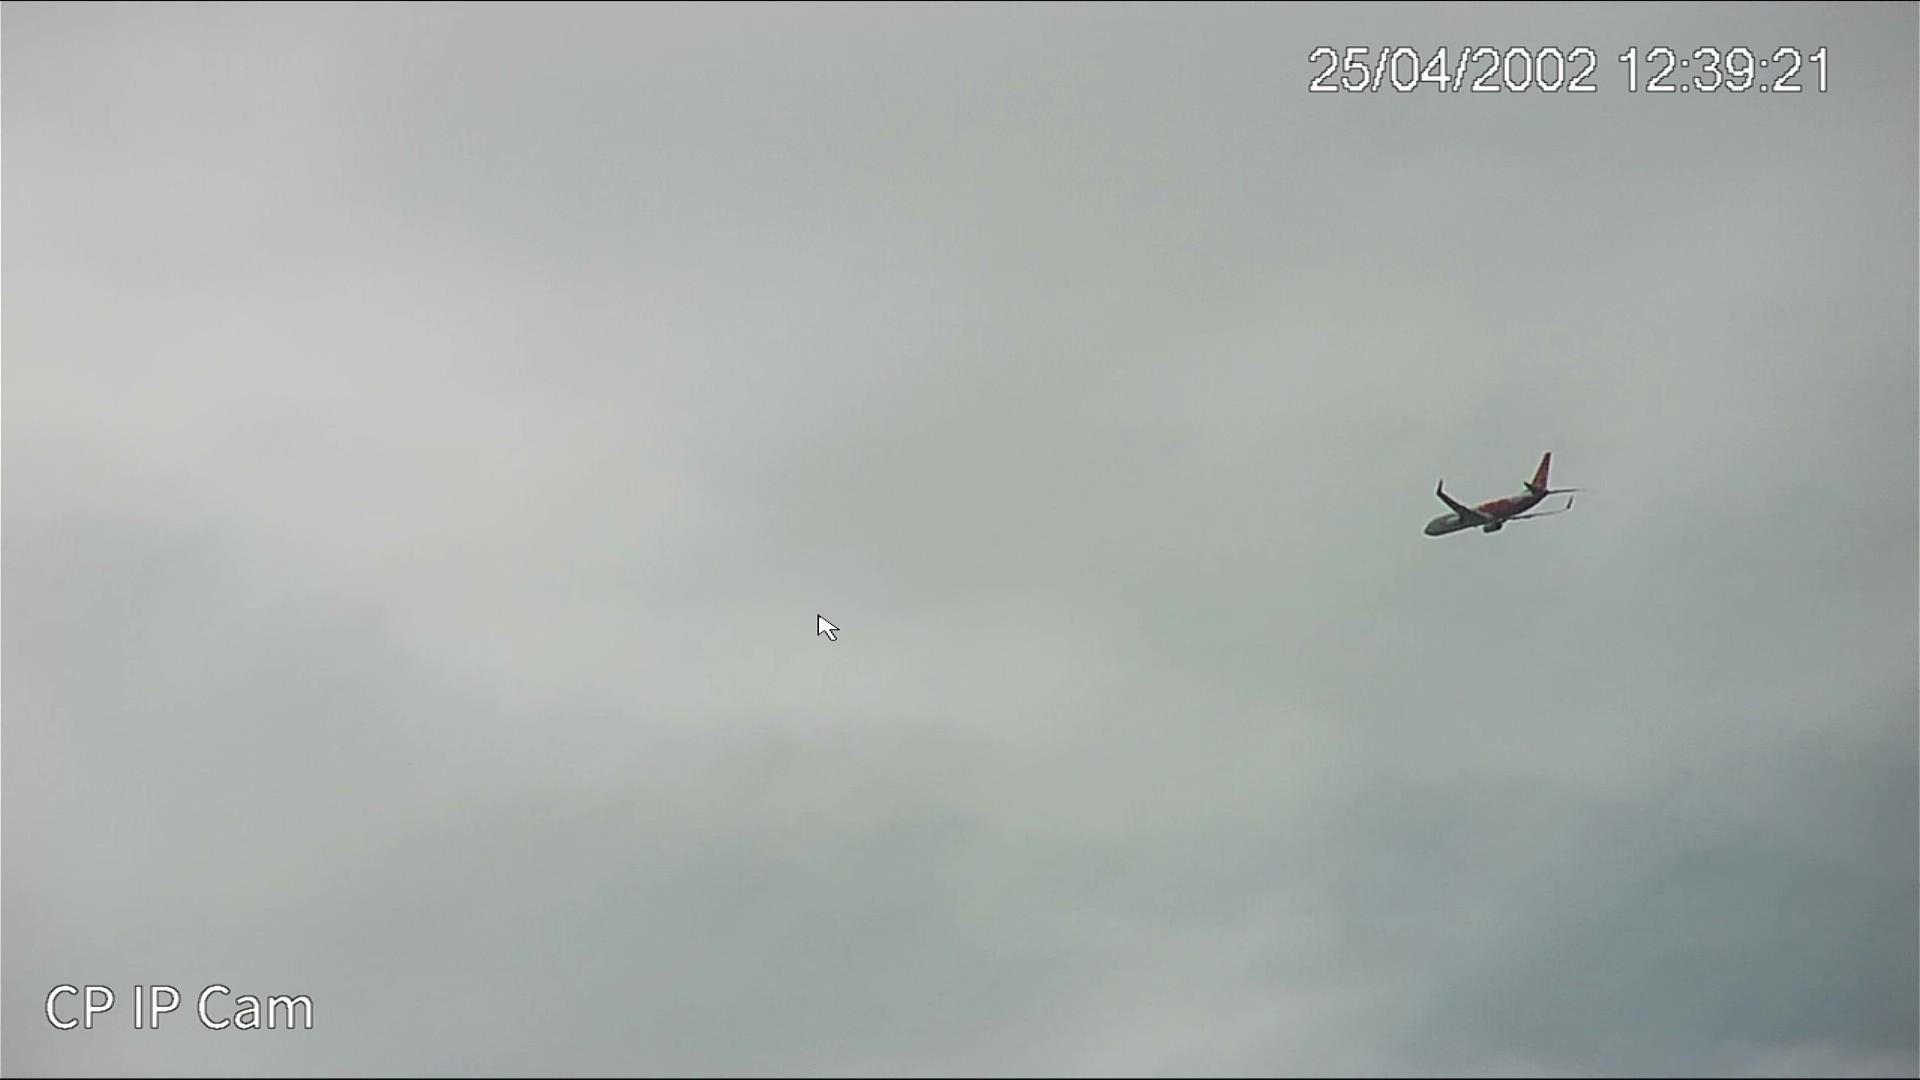SU_30: (1418, 451, 1588, 545)
